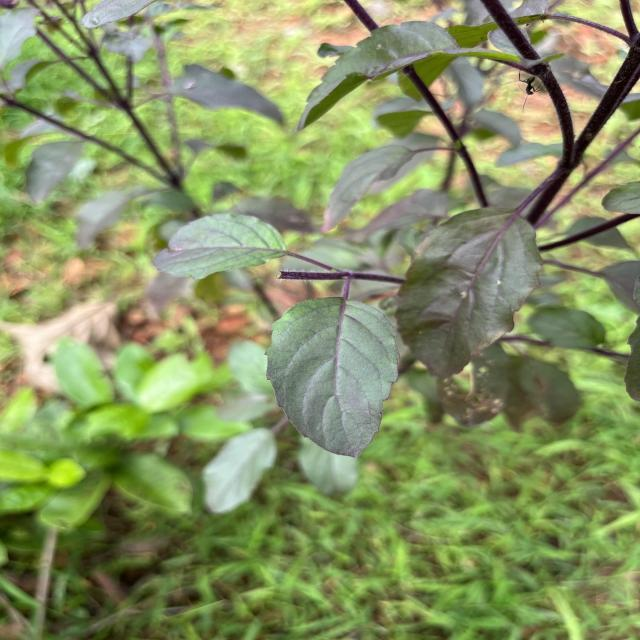Ocimum tenuiflorum: (260, 293, 404, 461)
